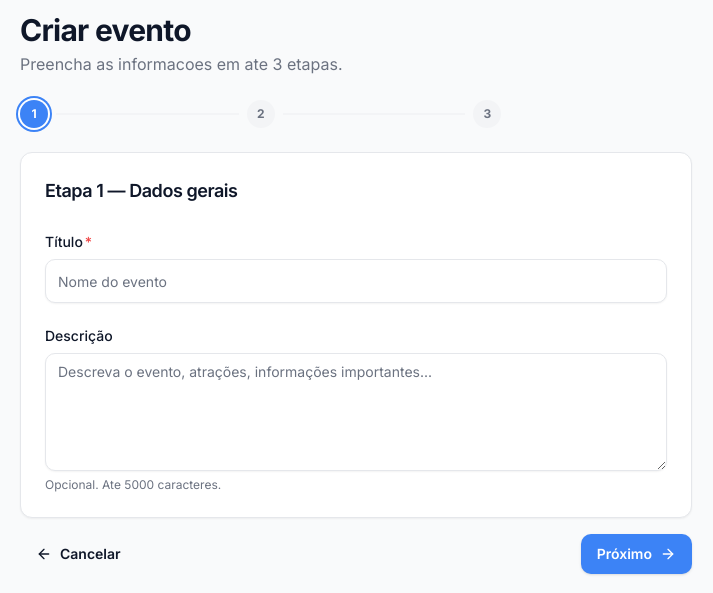
Test: <CriarEditarEvento> › avanca para etapa 2 apos preencher titulo
The width and height of the screenshot is (713, 593).
In the field labelled "Título*": (356, 281) [45, 259, 667, 303], type "Meu Evento Teste"
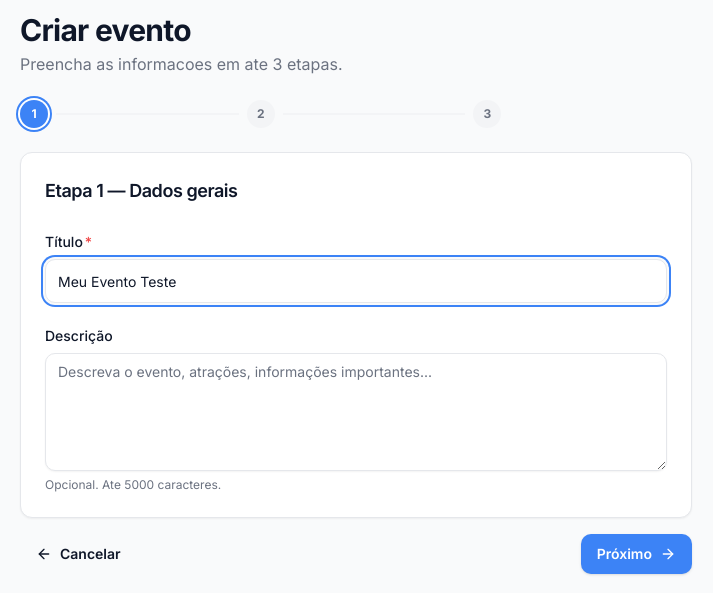
Click the button "Próximo": (636, 554) [581, 534, 692, 574]
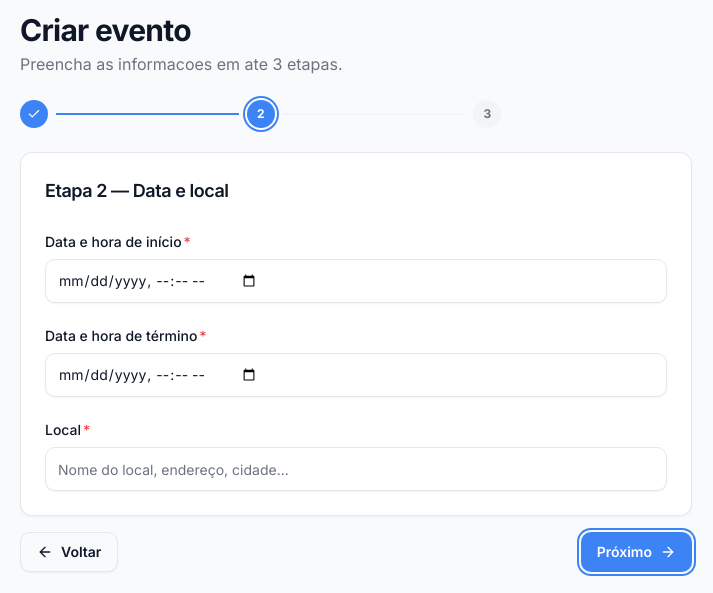
Expected: the field labelled "Data e hora de início*" is shown, [45, 259, 667, 303]
